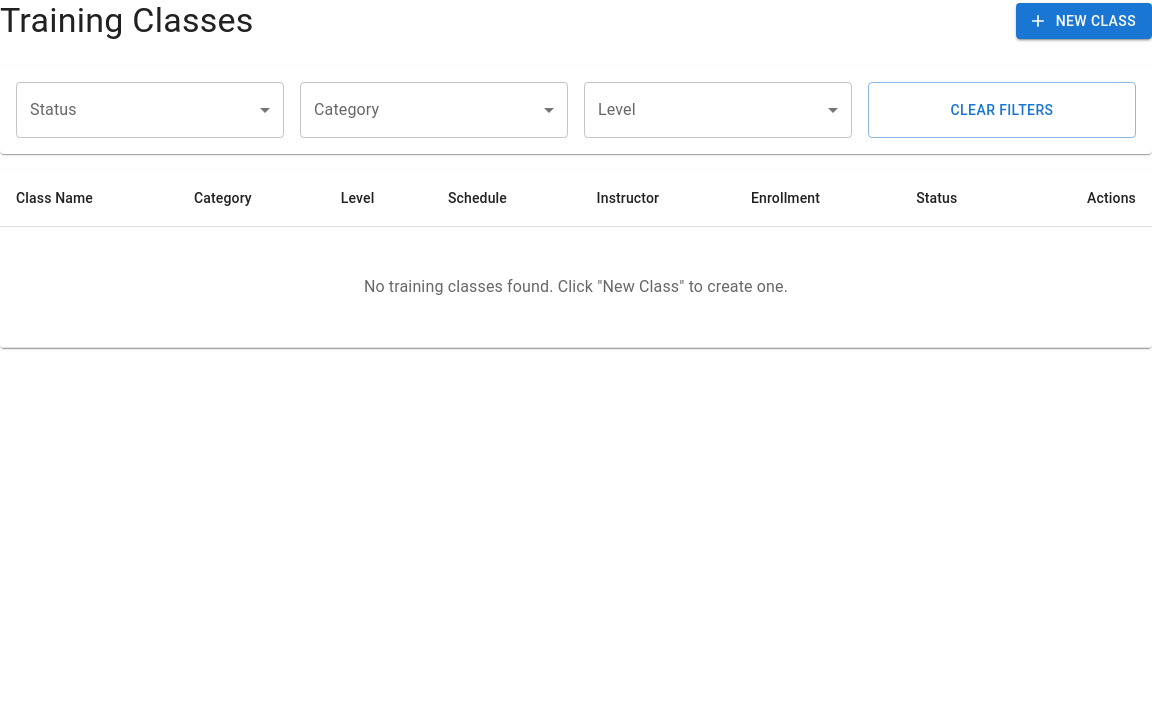
Test case: TrainingClasses - Validation › Required Field Validation › should show error when instructor is not selected
The width and height of the screenshot is (1152, 720).
Click the button "New Class".
click(1084, 21)  # box [1016, 3, 1151, 39]
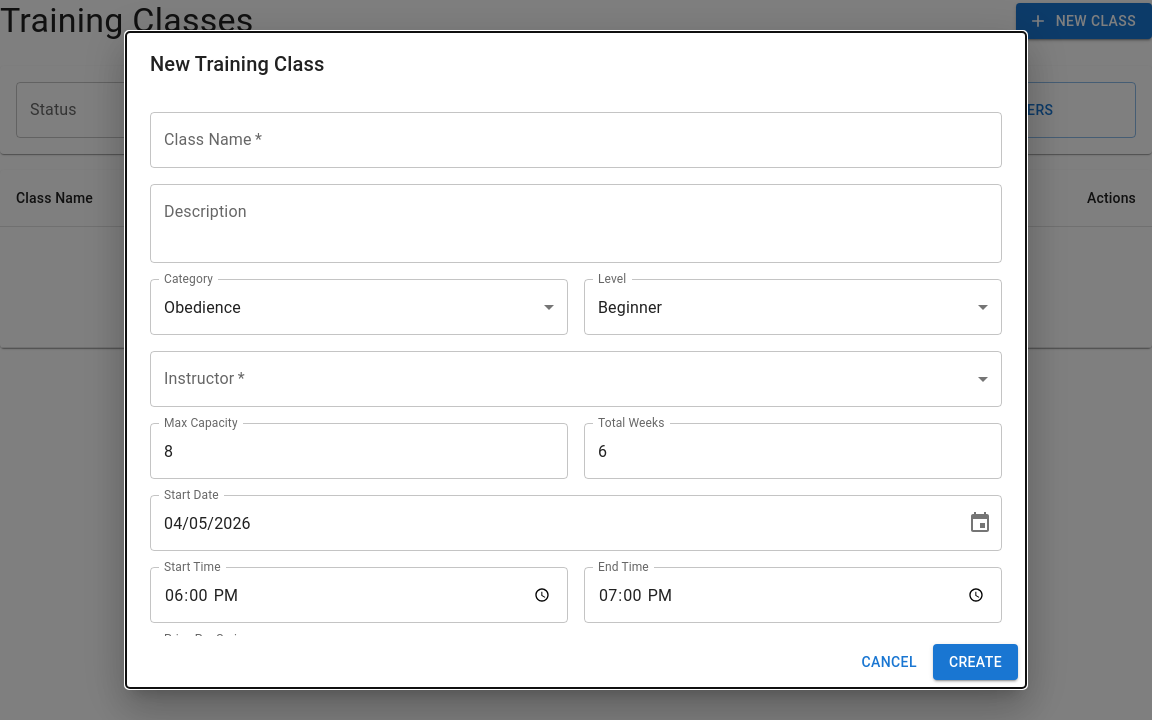
# Fill name but not instructor
Type "Puppy Training" into the field labelled "Class Name *".
click(576, 140); type("Puppy Training")  # box [150, 112, 1002, 168]
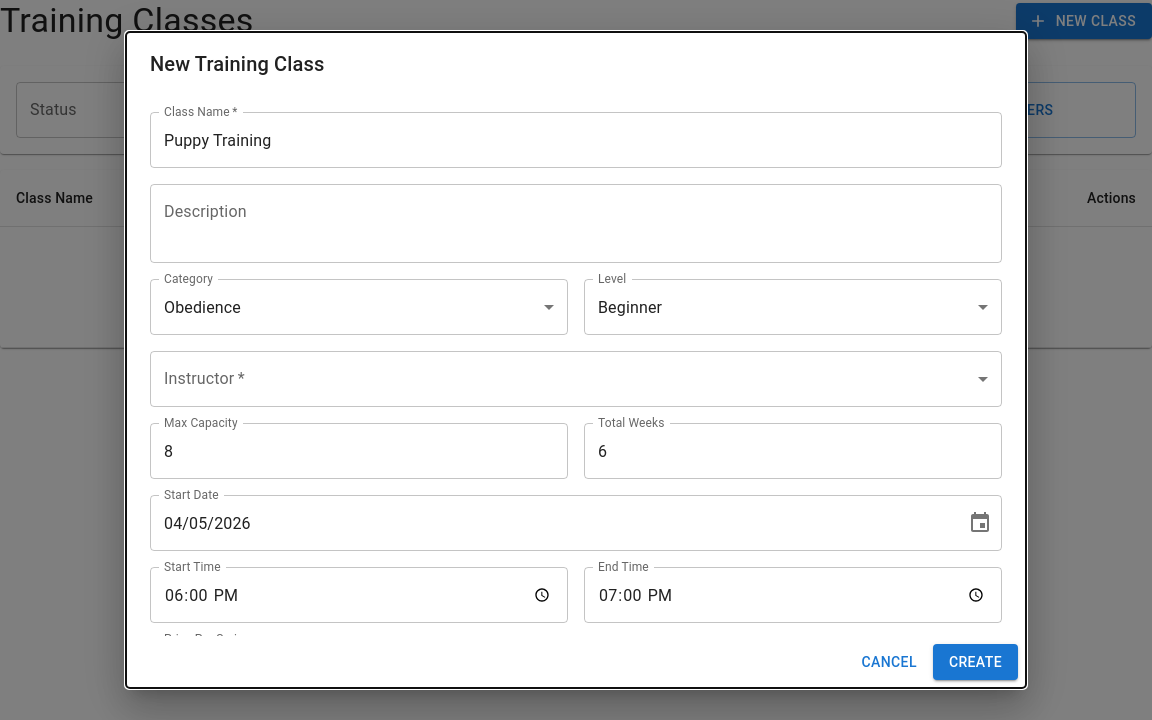
Click the button "Create".
click(975, 662)  # box [933, 644, 1018, 680]
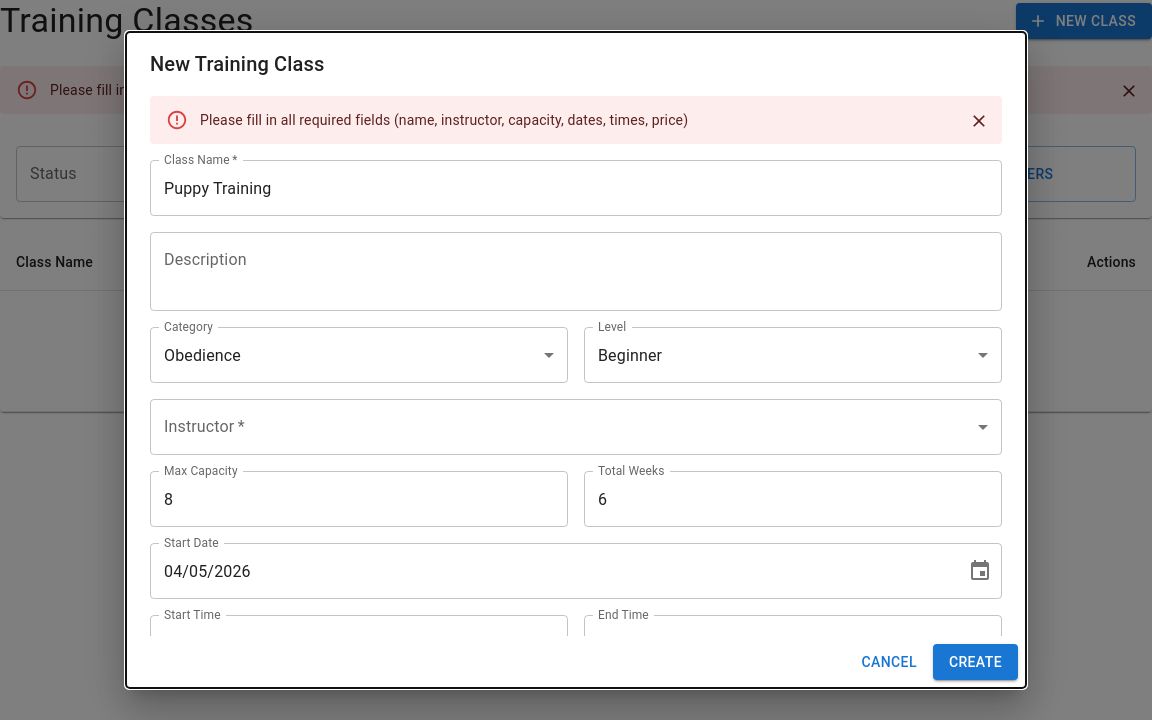
Result: the 1st text "Please fill in all required fields" is shown at [50, 82, 538, 98]
